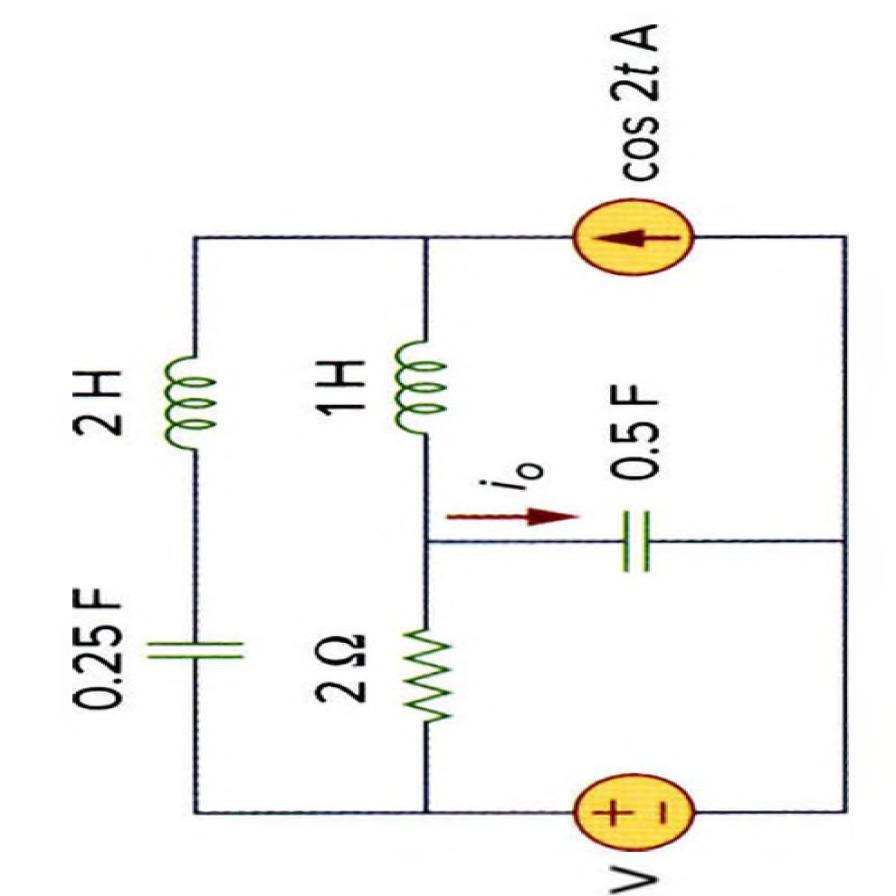I4: (561, 190, 703, 284)
L2: (140, 333, 234, 470)
R2: (388, 612, 463, 744)
V4: (573, 769, 699, 853)
